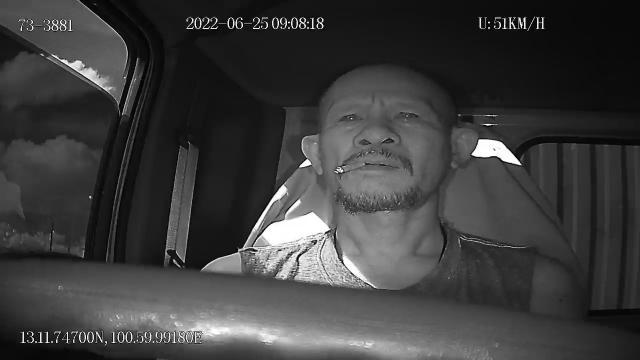SafeDriving: (331, 103, 369, 130), (389, 102, 426, 127)
Smoking: (334, 160, 364, 174)
